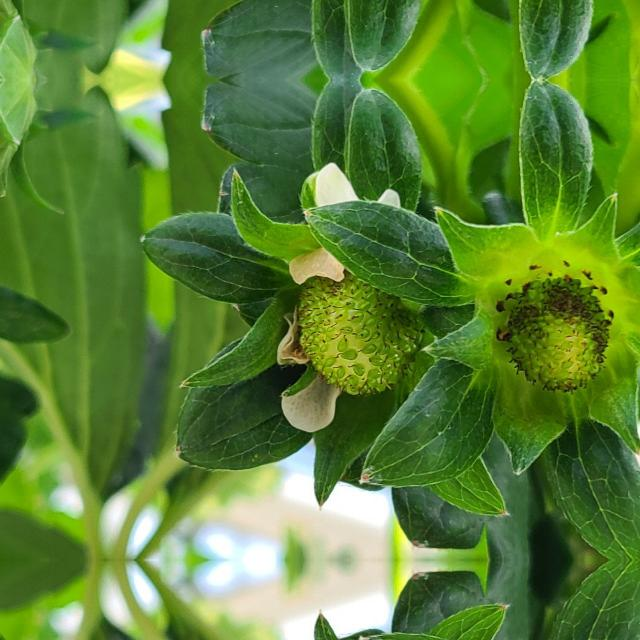Health_25: (298, 273, 416, 393), (508, 272, 610, 392)
